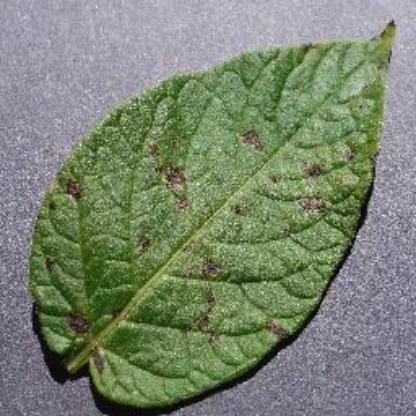Early-Blight: (28, 14, 416, 414)
